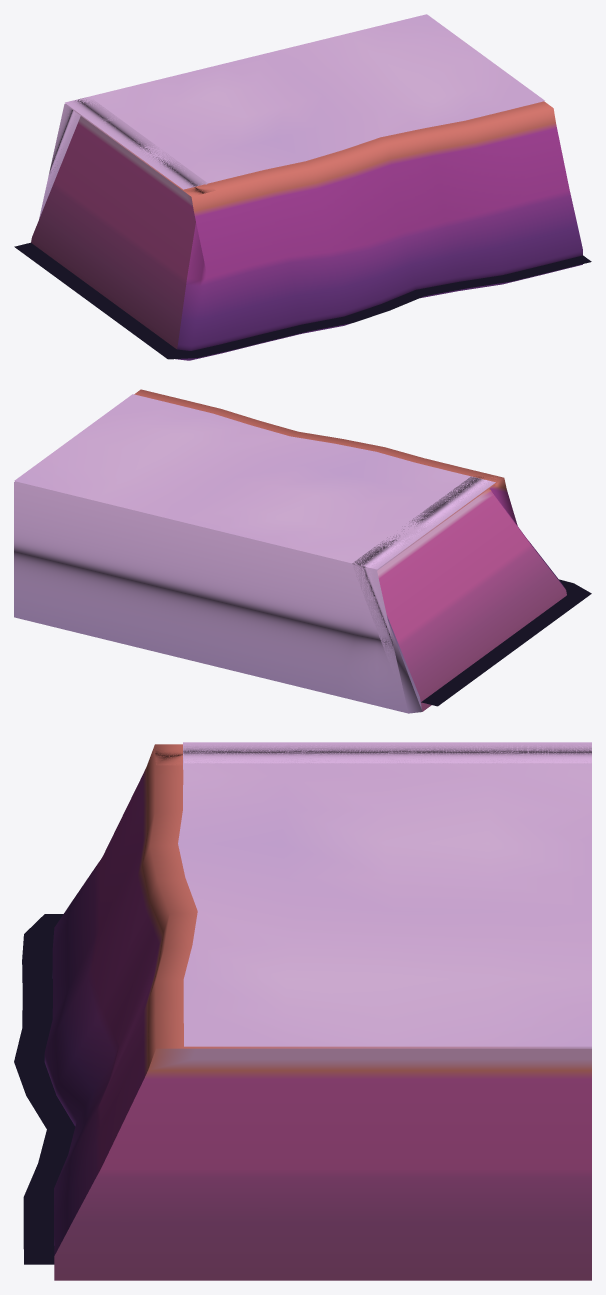
Rendered from ledge_glitter_end_w.glb.
3 renders of one model, top to bottom at view 1: azimuth 30°, elevation 25°; view 2: azimuth 150°, elevation 25°; view 3: azimuth 270°, elevation 25°, orthographic. The views are drawn at different scales.
Parts seen in each view (by area): view 1: Ledge.001; view 2: Ledge.001; view 3: Ledge.001.
Part boxes in pixels (left/top/right/bottom): Ledge.001: left=14, top=14, right=591, bottom=360; Ledge.001: left=14, top=389, right=591, bottom=713; Ledge.001: left=14, top=742, right=591, bottom=1280.
Bounding box in the file's own units: 1.04 × 0.323 × 0.7226.
